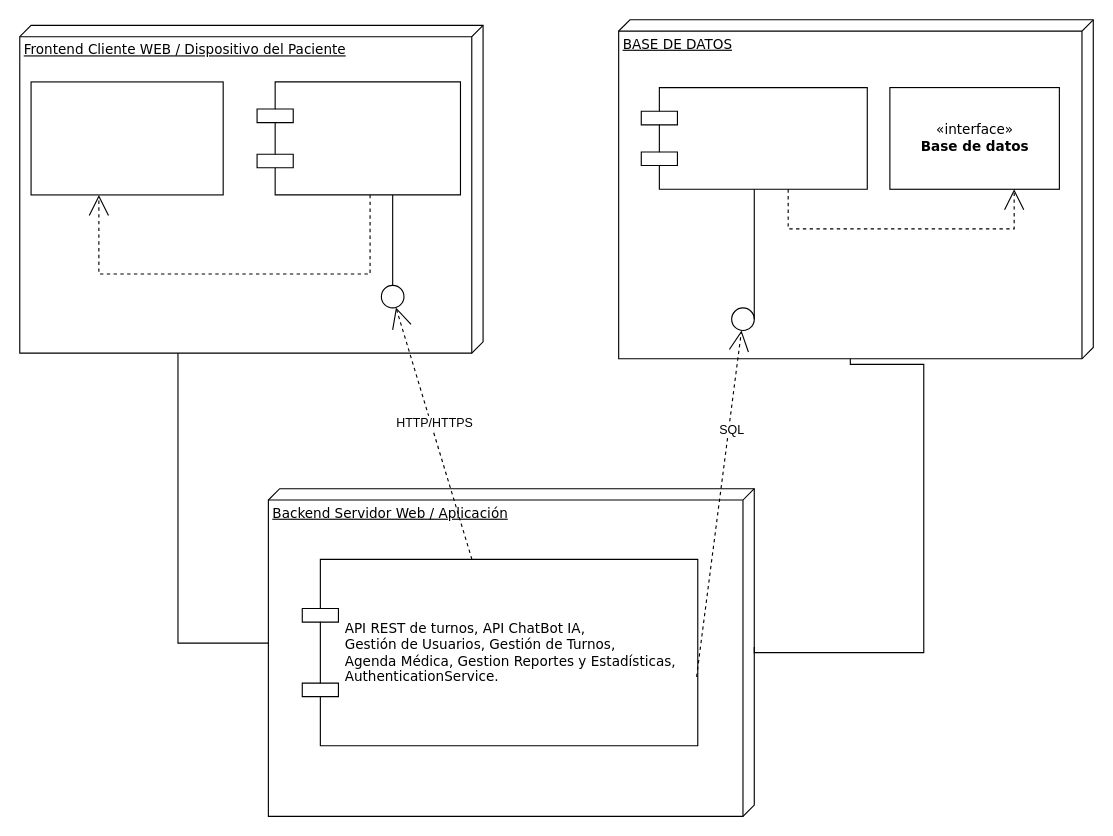
Some shapes in this 1113 by 836 pixel diagram are drawn without their labels. The centre of each missing label's shape, as x and y in pixels:
"Login, Solicitud y Visualizacion de Turnos, Chat con Asistente IA." belongs at (358,138).
"Tablas: Pacientes, Médicos, Tunos, Agendas, Reportes." belongs at (753,137).
"«interface» Aplicacion web / Chatbot" belongs at (126,138).
